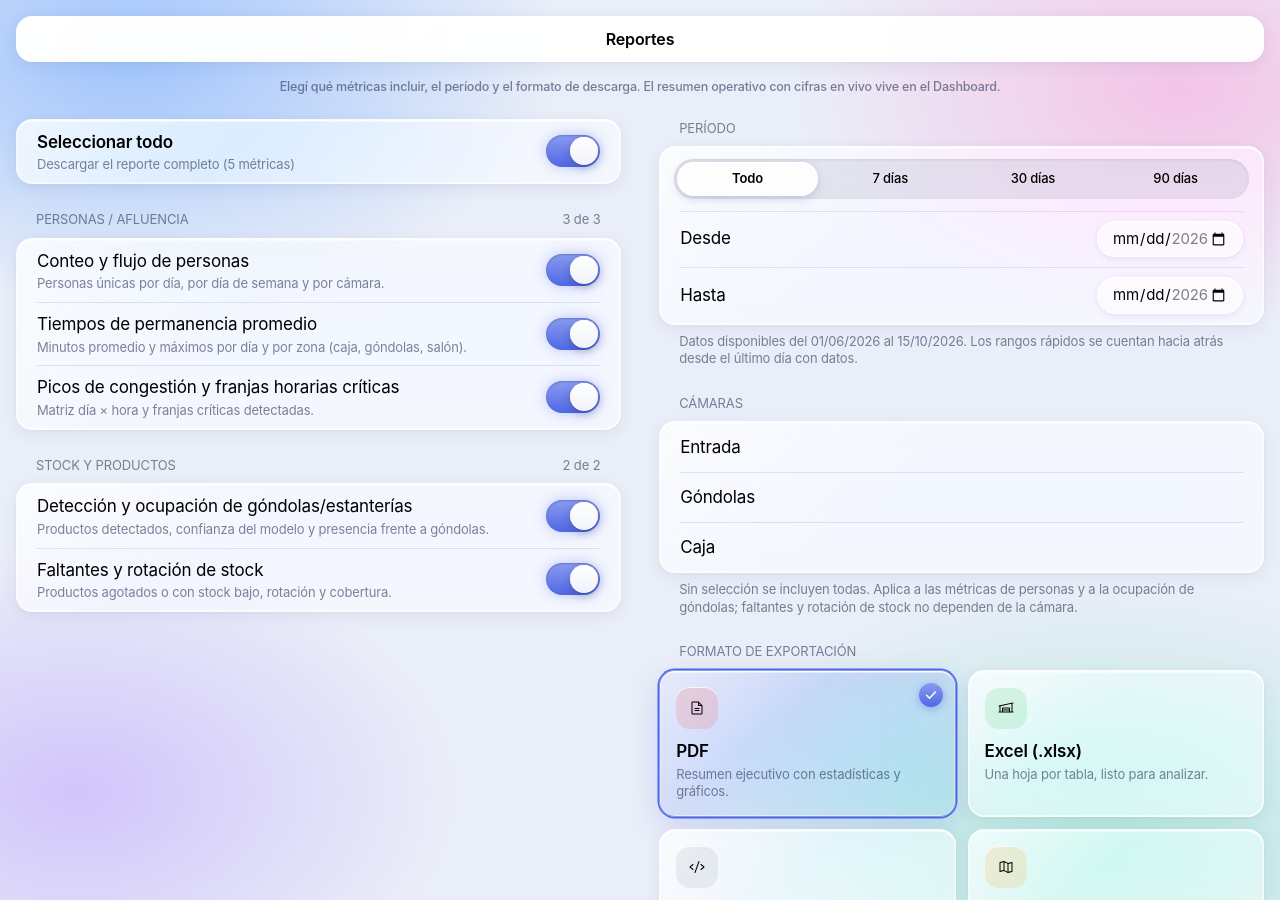
Scenario: selección de métricas › apagar una métrica actualiza el contador de su categoría, "Seleccionar todo" y la barra
This screenshot has width=1280, height=900.
Expected: the switch labelled "Seleccionar todo Descargar el reporte completo (5 métricas)" is shown, [546,135,600,167]
Click the switch labelled "Faltantes y rotación de stock" at (573,579), box [546,563,600,595]
(page scrolled)
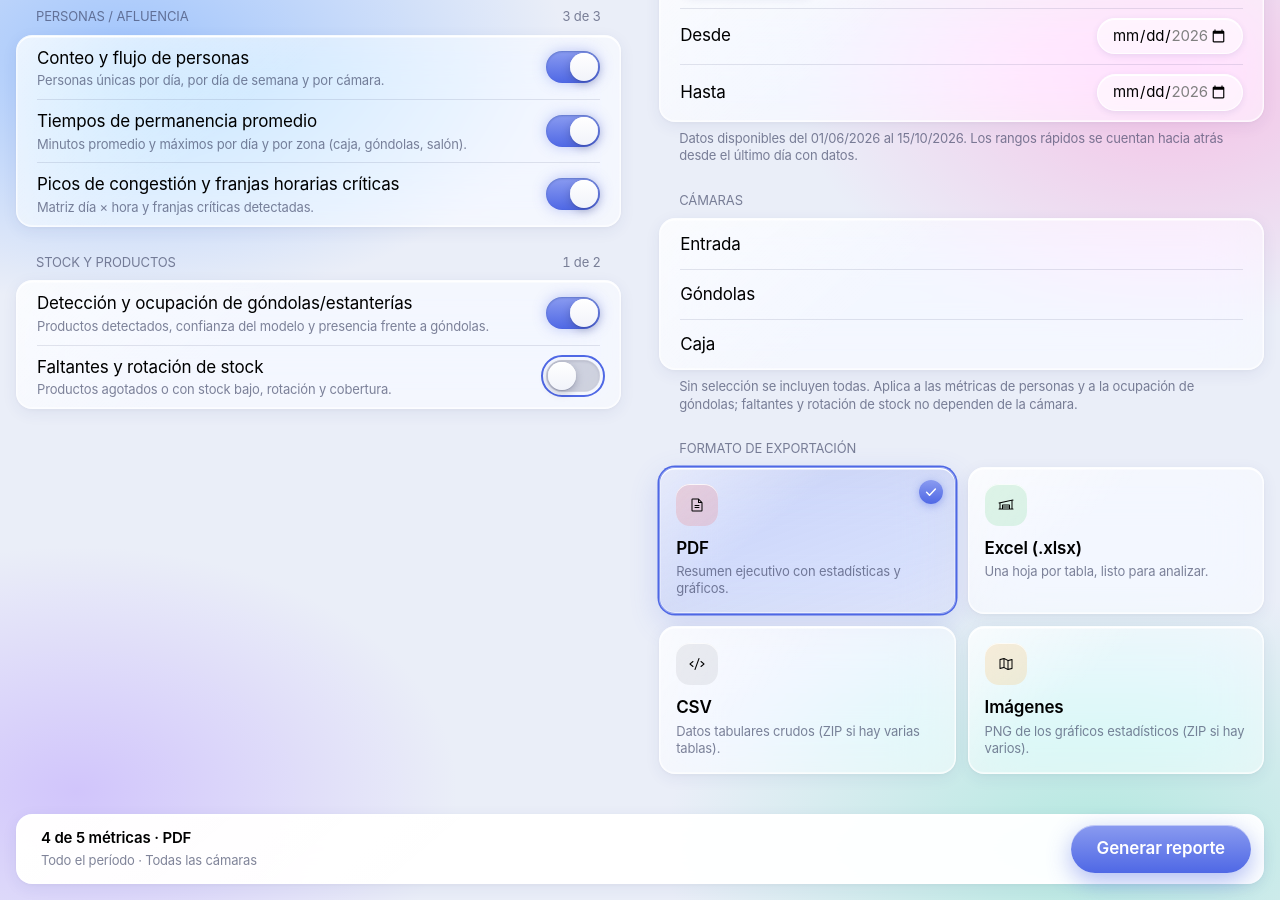
Expected: the text "1 de 2" is shown, [562,253,601,272]
Expected: the text "4 de 5 métricas · PDF" is shown, [41,828,191,847]
